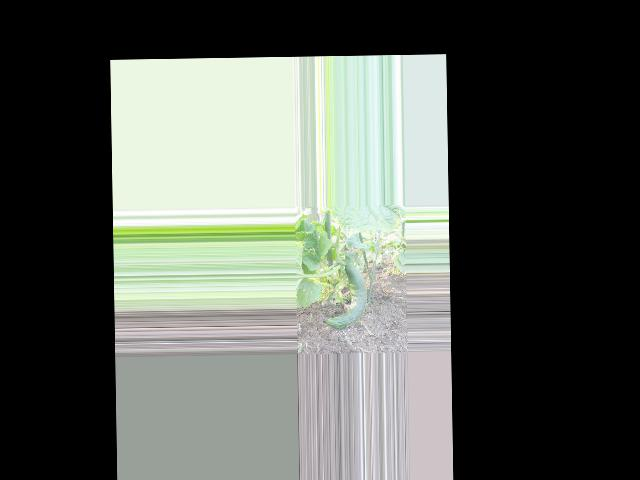cucumber: (325, 262, 368, 328)
